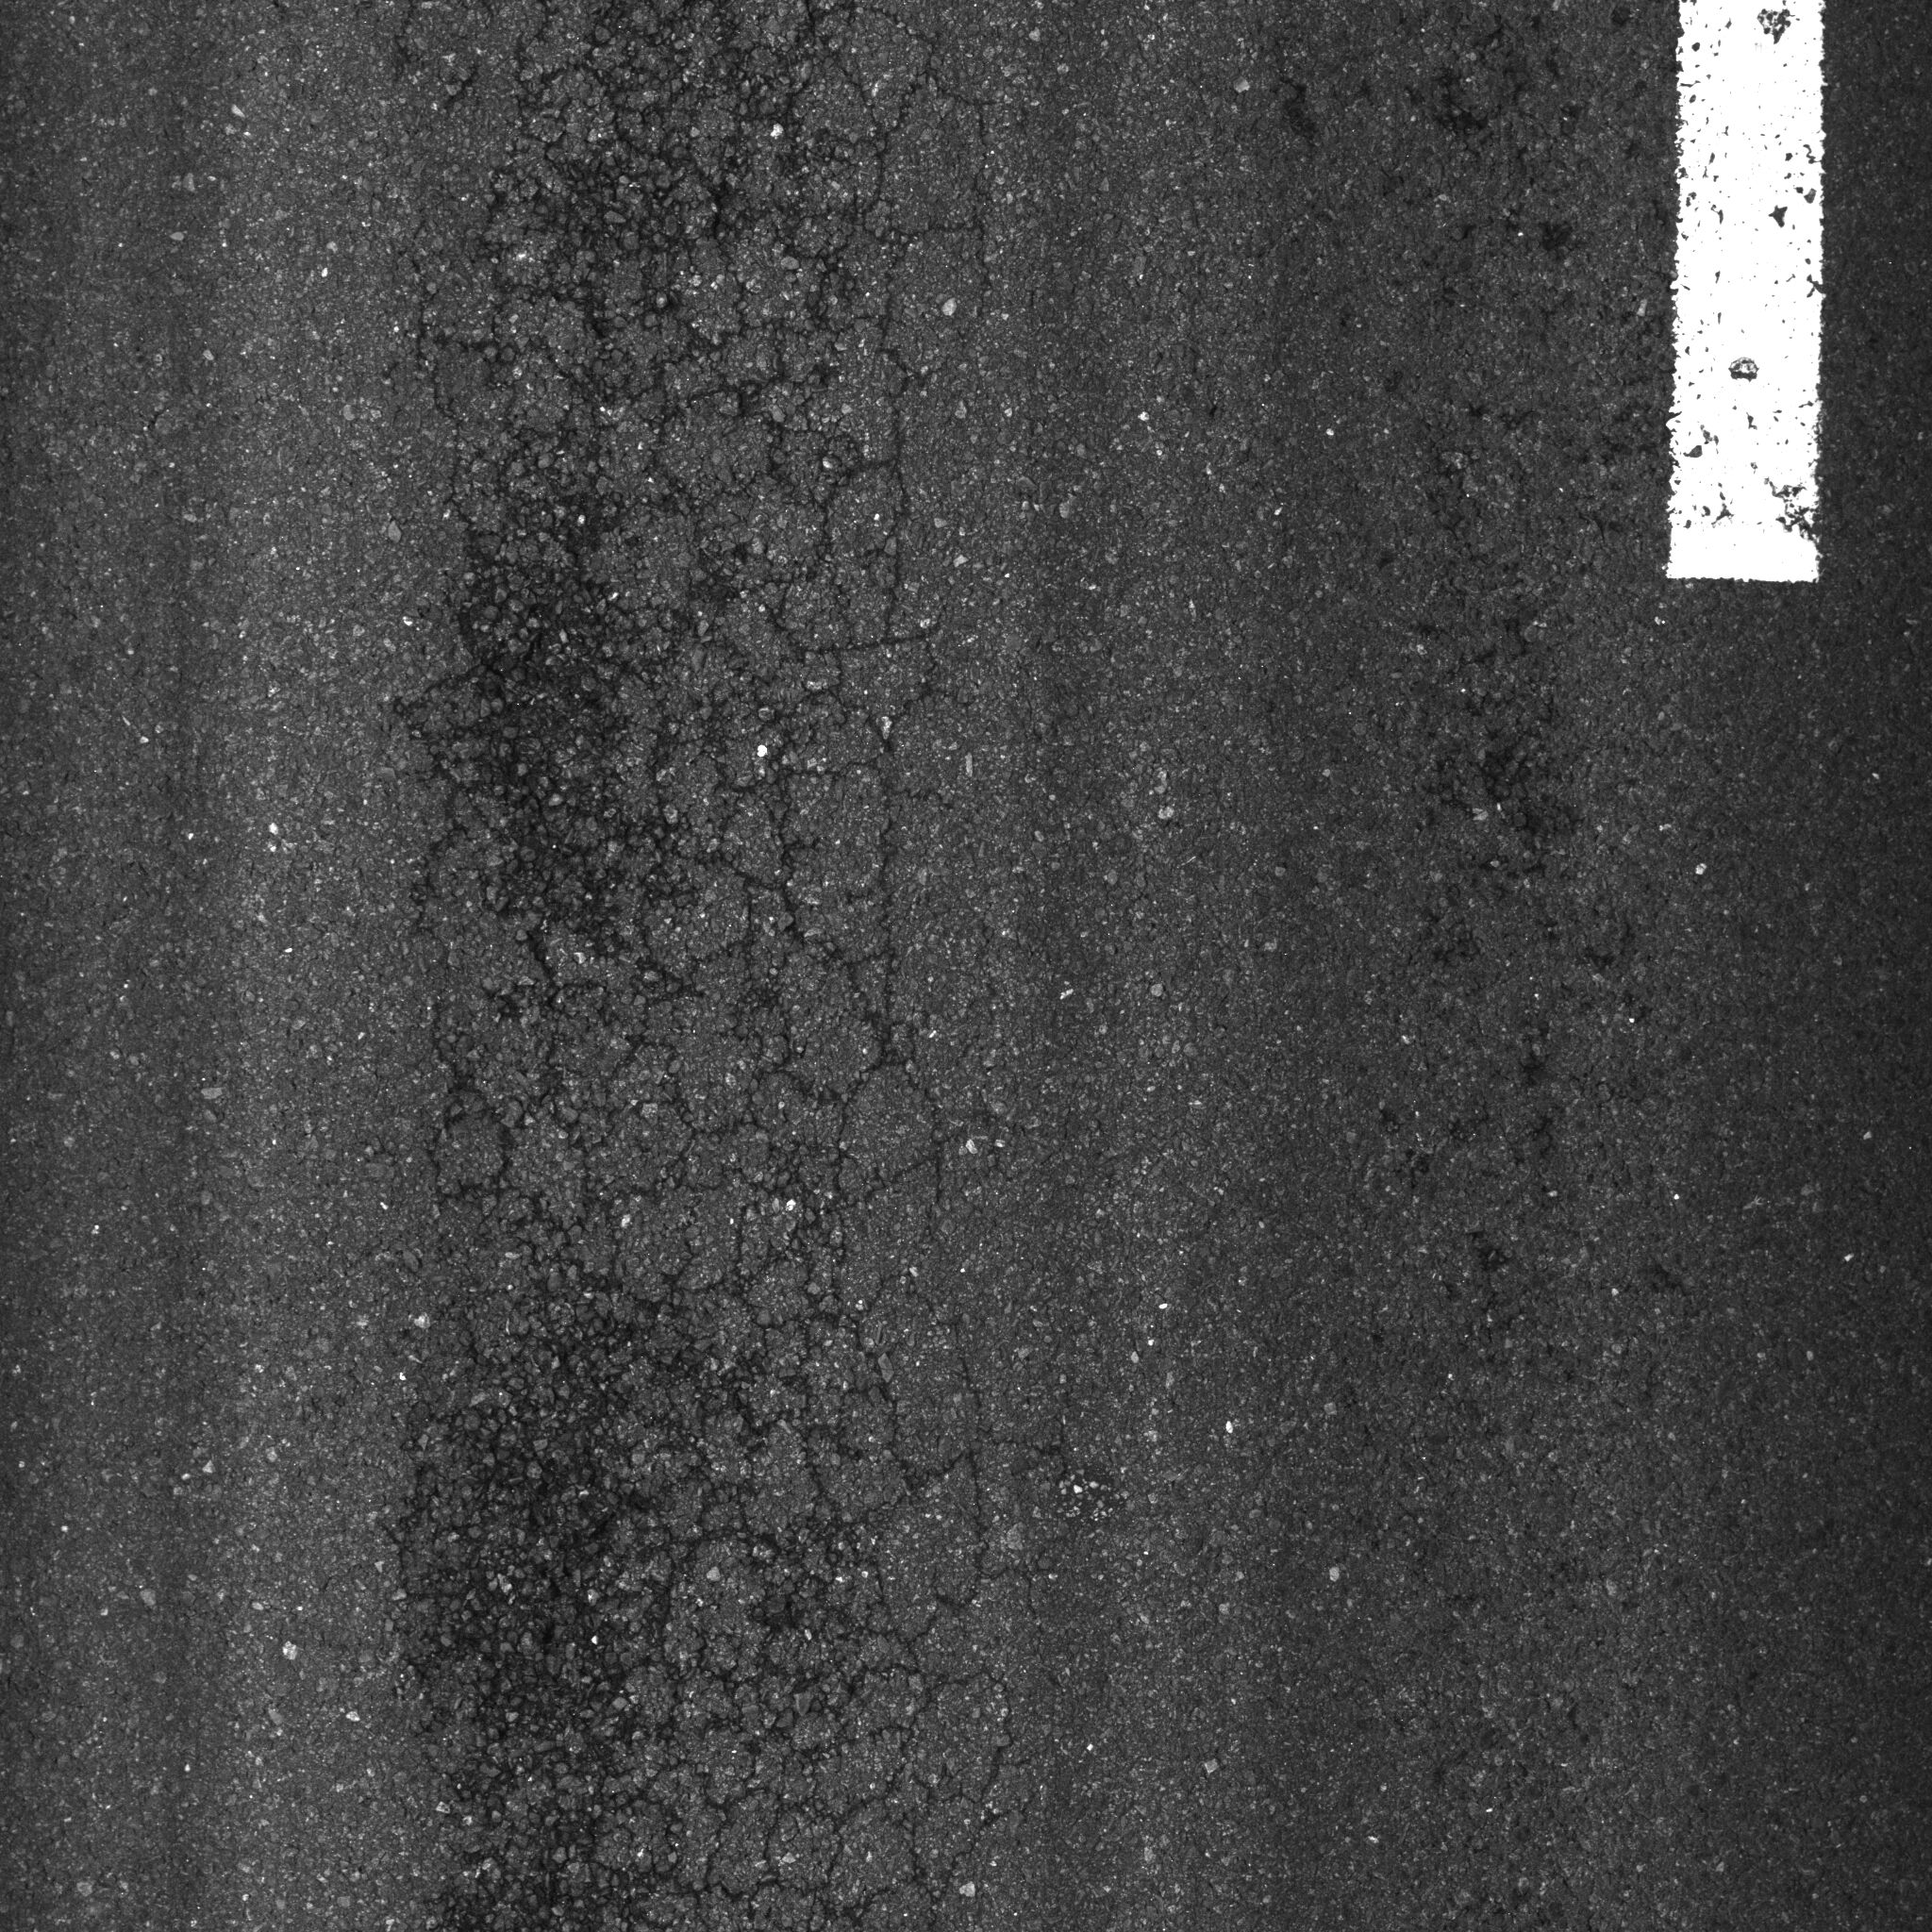alligator: (315, 2, 1113, 1932)
